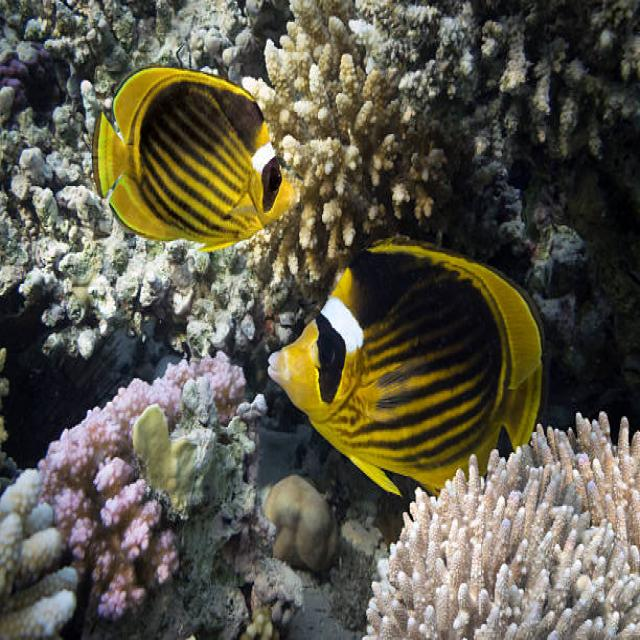ButterflyFish: (268, 238, 546, 488), (93, 65, 304, 250)
